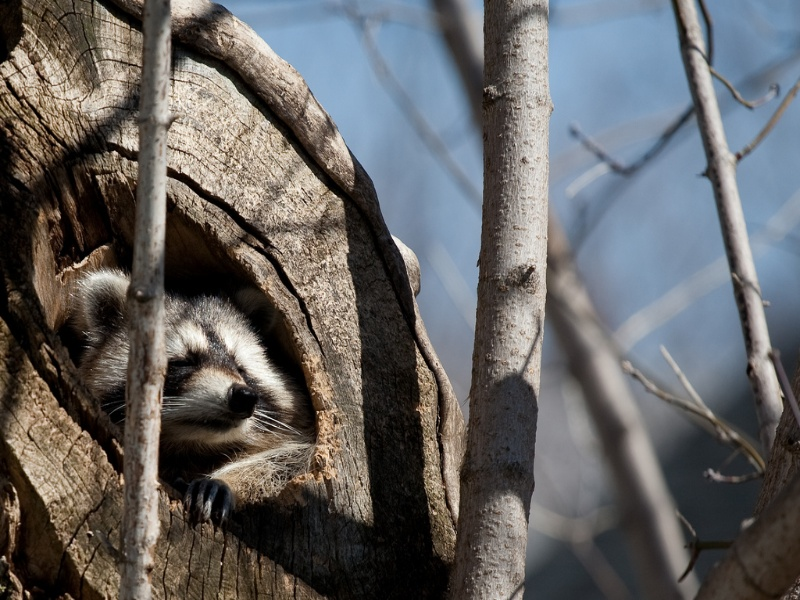raccoon: (78, 268, 296, 518)
